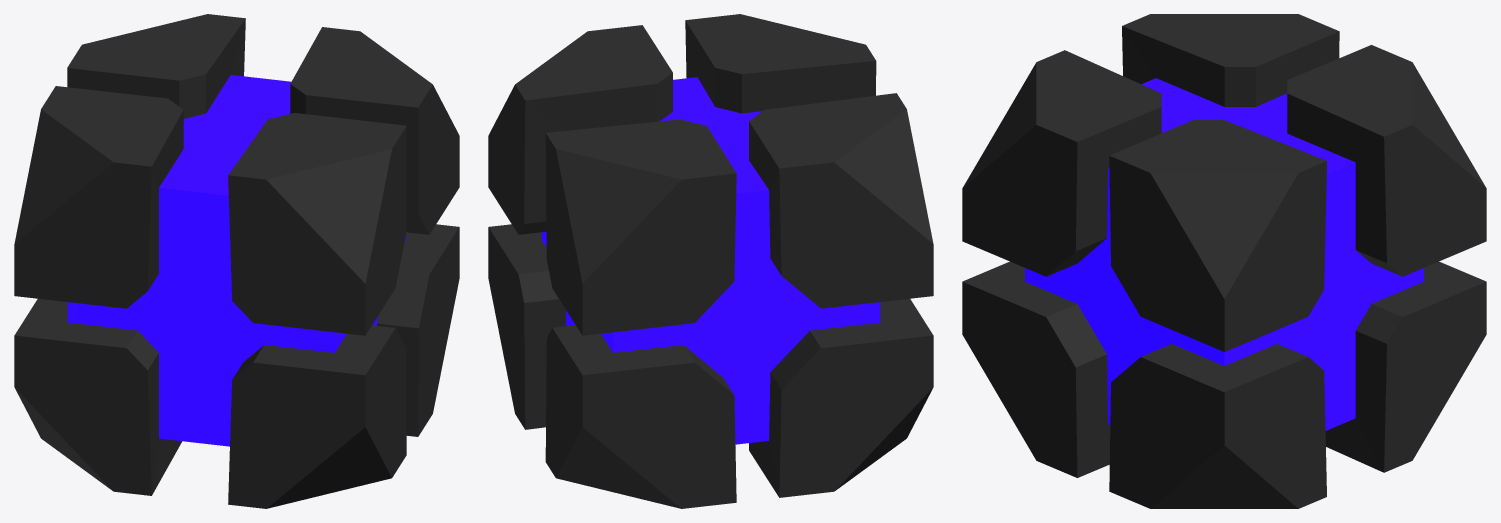
Rendered from stack-physical-pack.glb.
The picture shows the model from 3 angles, left to right: view 1: azimuth 30°, elevation 25°; view 2: azimuth 150°, elevation 25°; view 3: azimuth 270°, elevation 25°; orthographic projection. The views are drawn at different scales.
Visible parts, largest first — view 1: Cube.032; view 2: Cube.032; view 3: Cube.032.
Boxes of the visible parts, <box> form: Cube.032: <box>14,14,459,508</box>; Cube.032: <box>488,14,933,508</box>; Cube.032: <box>962,14,1486,508</box>.
Bounding box in the file's own units: 2.5 × 1.76 × 2.5.
Materials: 1 (1 with a texture image).
